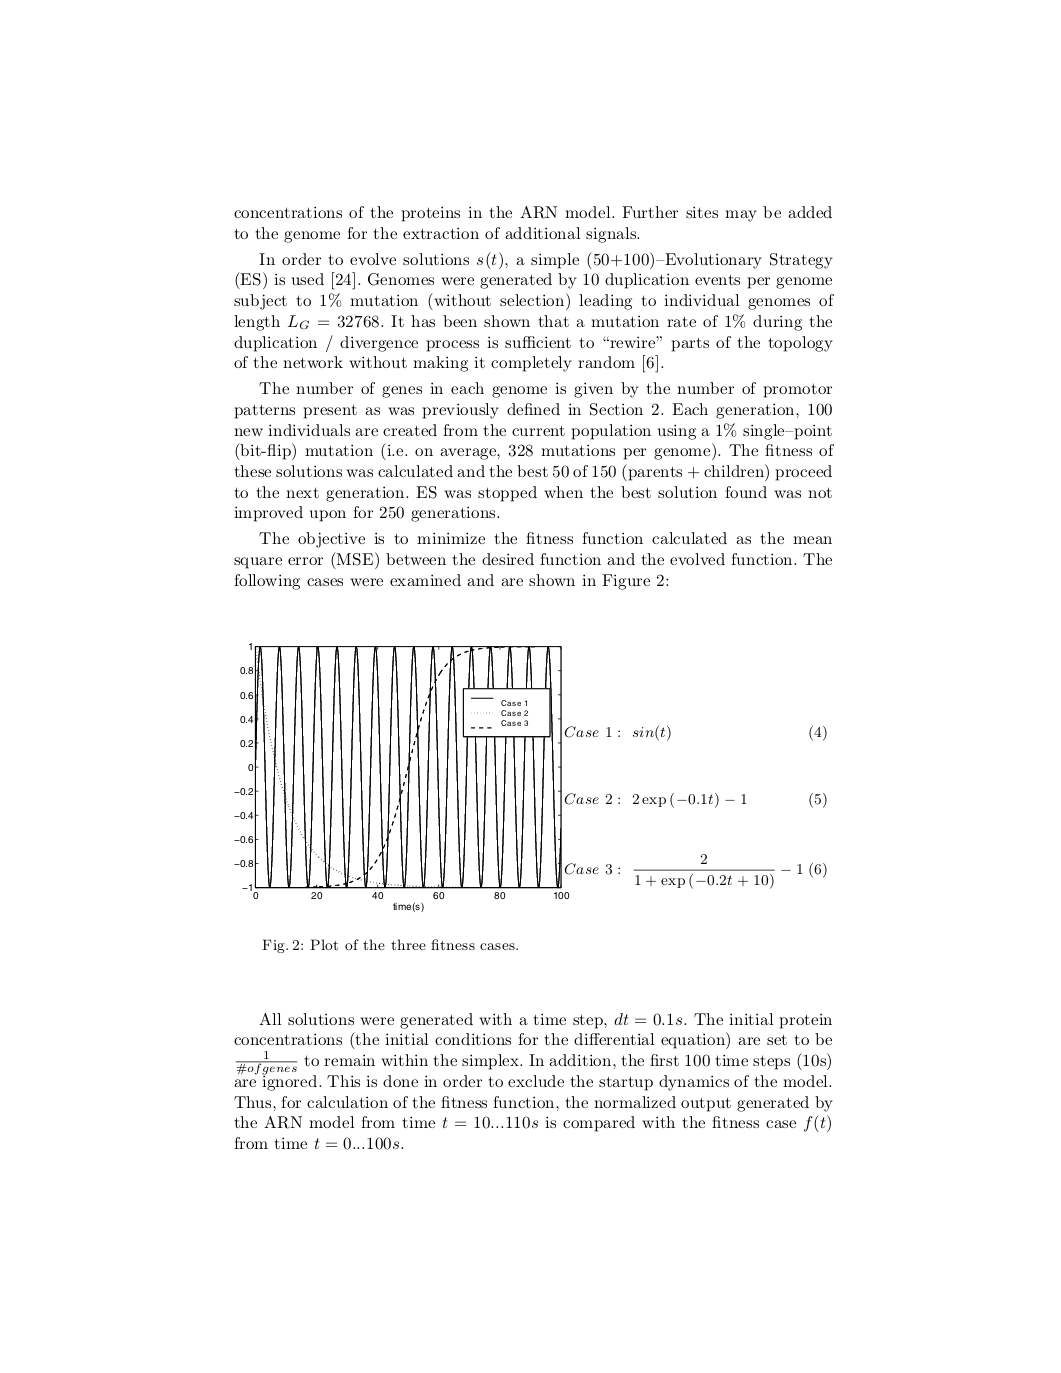figure: (234, 643, 826, 911)
